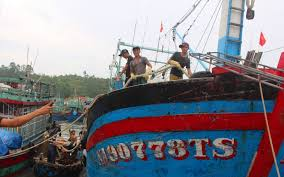tau_dansu: (92, 30, 284, 177)
